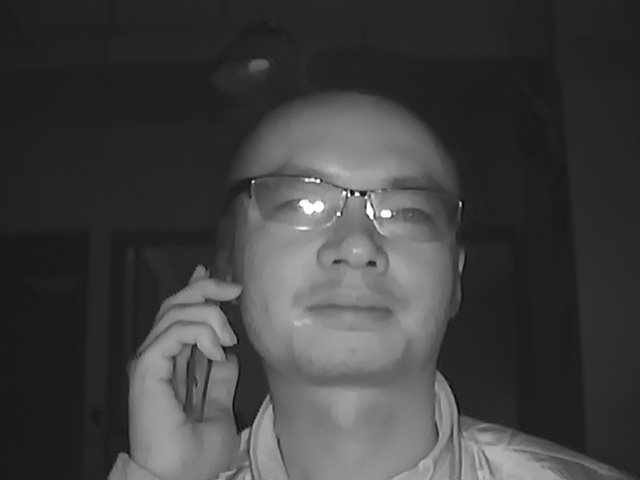hand: (118, 267, 249, 470)
